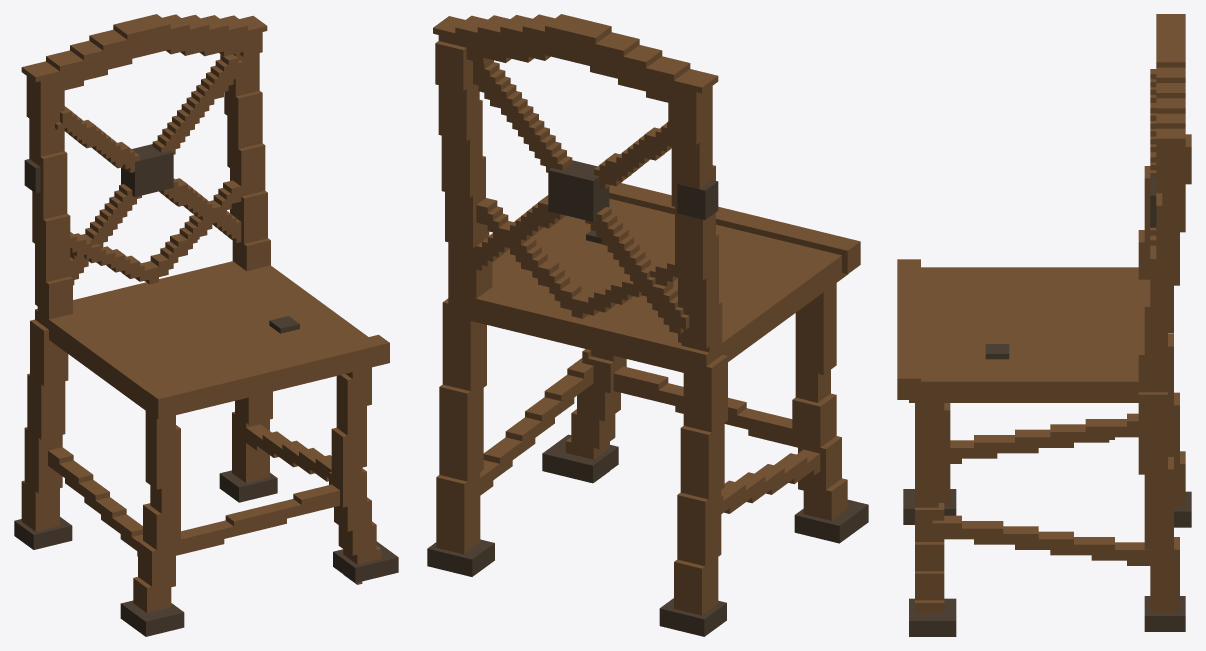
File: gnarled_grown_chair.glb
3 renders of one model, left to right at view 1: azimuth 30°, elevation 25°; view 2: azimuth 150°, elevation 25°; view 3: azimuth 270°, elevation 25°, orthographic. The views are drawn at different scales.
Visible parts, largest first — view 1: gnarled_grown_chair:compound; view 2: gnarled_grown_chair:compound; view 3: gnarled_grown_chair:compound.
Boxes of the visible parts, x1=… form: gnarled_grown_chair:compound: x1=14, y1=14, x2=398, y2=636; gnarled_grown_chair:compound: x1=427, y1=14, x2=868, y2=636; gnarled_grown_chair:compound: x1=897, y1=14, x2=1191, y2=636.
Size of the model in its own units: 0.53 by 0.98 by 0.5.
